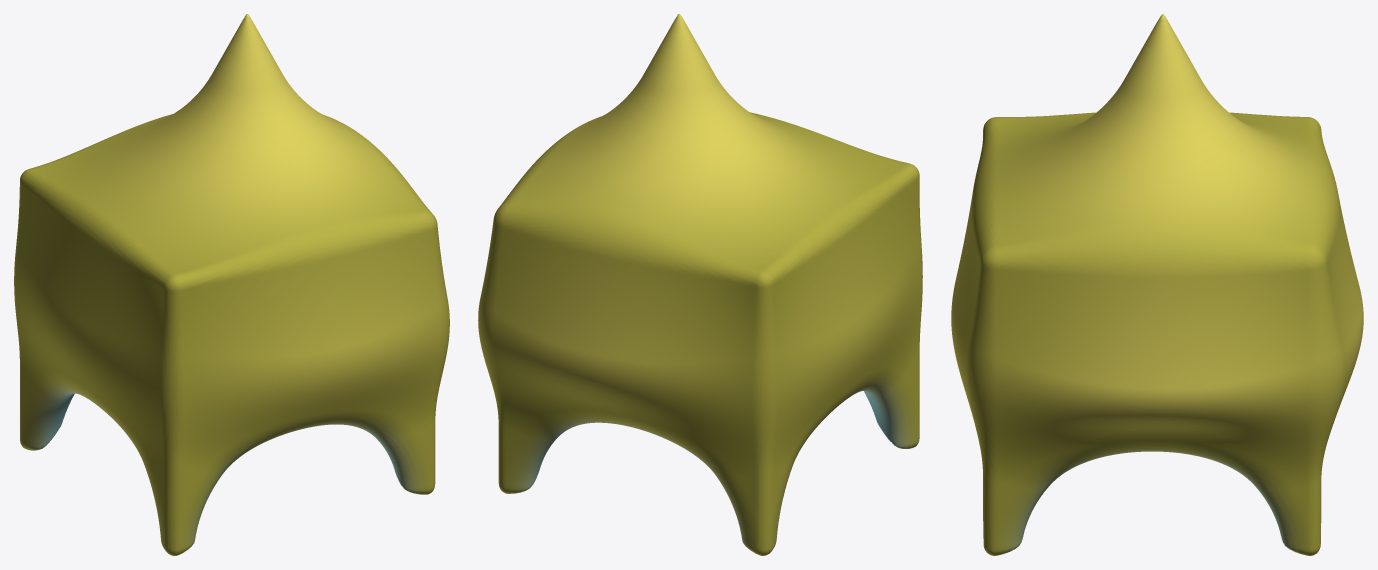
The model's file is day one project.glb.
The picture shows the model from 3 angles, left to right: view 1: azimuth 30°, elevation 25°; view 2: azimuth 150°, elevation 25°; view 3: azimuth 270°, elevation 25°; orthographic projection. The views are drawn at different scales.
Parts seen in each view (by area): view 1: Area (1); view 2: Area (1); view 3: Area (1).
Part boxes in pixels (<box>): Area (1): <box>14,14,449,555</box>; Area (1): <box>478,14,922,555</box>; Area (1): <box>951,14,1363,555</box>.
Bounding box in the file's own units: 49.04 × 63.52 × 48.76.
1 material, 1 textured.
